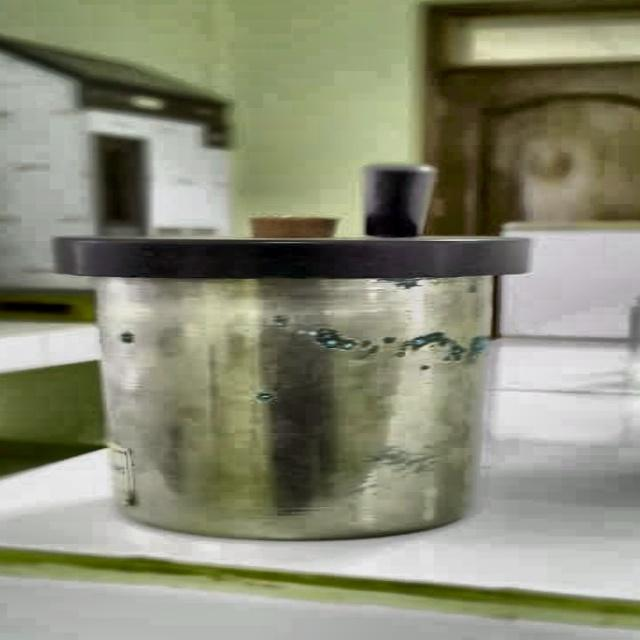Calorimeter: (57, 156, 523, 544)
